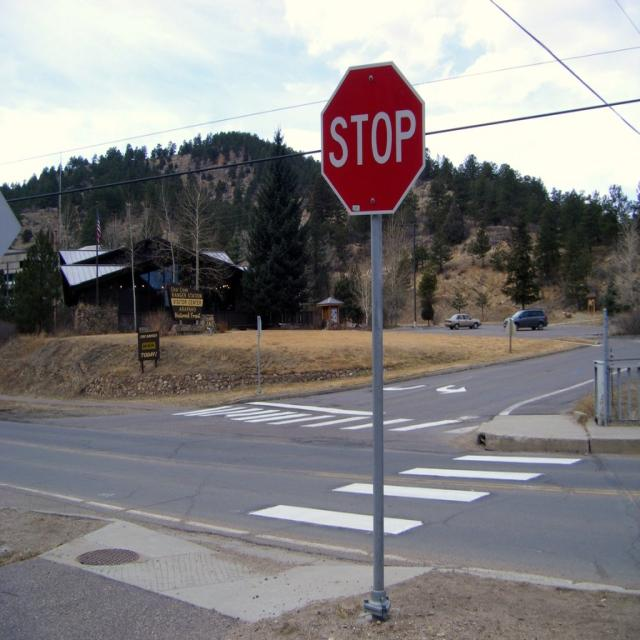Stop-sign: (319, 60, 425, 214)
